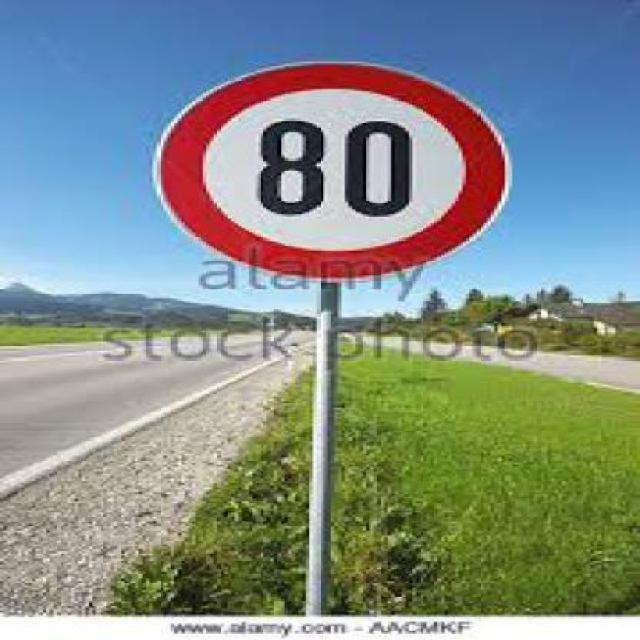speed limit 80: (151, 58, 511, 278)
